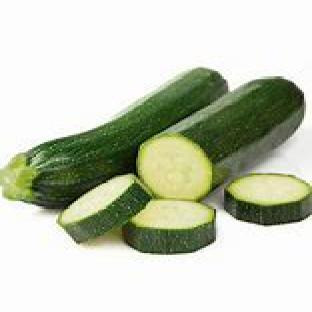Zucchini: (0, 68, 227, 208), (138, 79, 303, 199), (58, 174, 151, 242), (122, 200, 215, 254), (224, 174, 311, 225)
